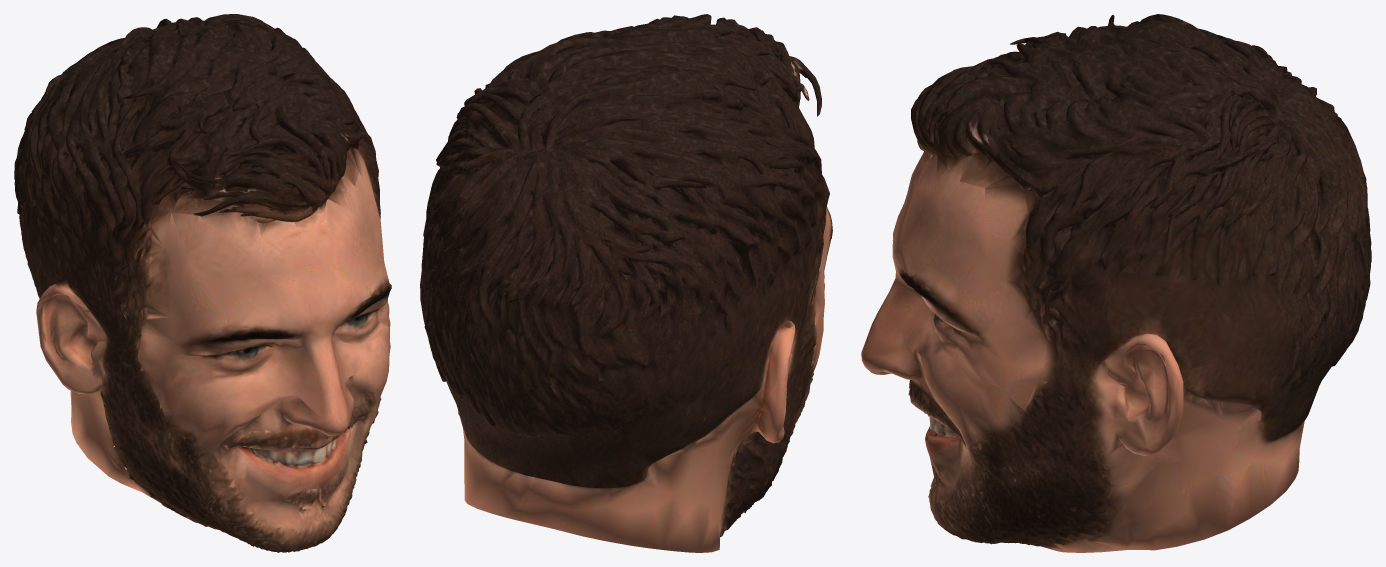
The model's file is head_landon.glb.
The picture shows the model from 3 angles, left to right: view 1: azimuth 30°, elevation 25°; view 2: azimuth 150°, elevation 25°; view 3: azimuth 270°, elevation 25°; orthographic projection. The views are drawn at different scales.
Parts seen in each view (by area): view 1: Mesh_0; view 2: Mesh_0; view 3: Mesh_0.
Part boxes in pixels (x1=…): Mesh_0: x1=14, y1=14, x2=391, y2=552; Mesh_0: x1=420, y1=14, x2=832, y2=552; Mesh_0: x1=861, y1=14, x2=1371, y2=552.
Size of the model in its own units: 0.6976 by 0.9502 by 0.8893.
1 material, 1 textured.
